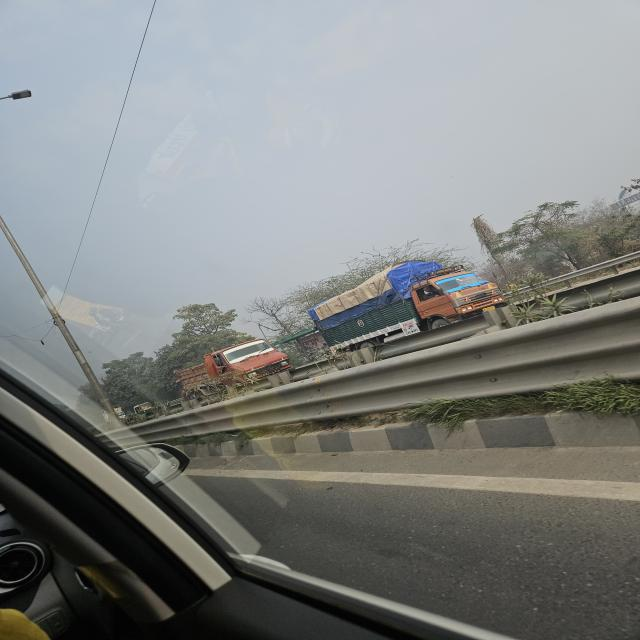covered: (302, 250, 506, 354)
uncovered: (170, 336, 296, 398)
